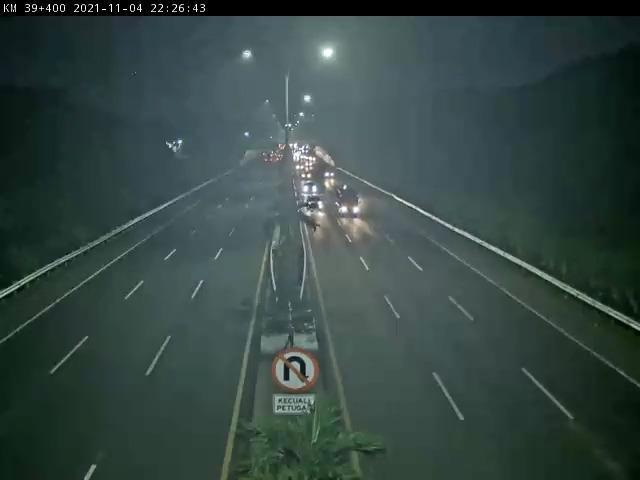car: (333, 182, 361, 212)
